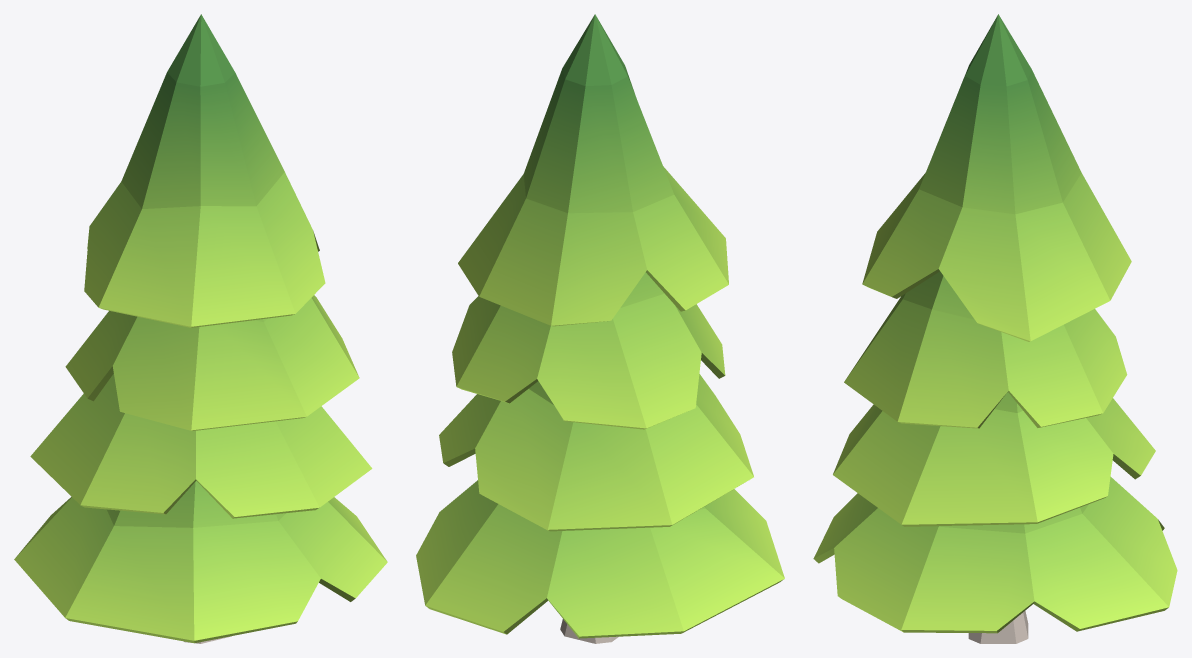
File: GreenPine5.fbx
3 views of the same model, side by side, from view 1: azimuth 30°, elevation 25°; view 2: azimuth 150°, elevation 25°; view 3: azimuth 270°, elevation 25° (orthographic).
Visible parts, largest first — view 1: GreenPine5; view 2: GreenPine5; view 3: GreenPine5.
Boxes of the visible parts, x1,y1,x2,y2 form: GreenPine5: [14, 14, 387, 643]; GreenPine5: [416, 14, 784, 643]; GreenPine5: [813, 14, 1177, 643].
Size of the model in its own units: 503 by 931 by 498.
